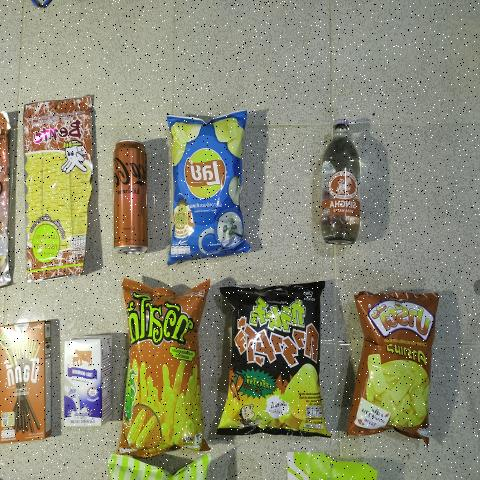bento_red: (26, 96, 94, 281)
coke_red: (110, 139, 147, 258)
karamujo: (222, 279, 322, 439)
lay_blue: (176, 119, 242, 246)
party_red: (352, 293, 436, 428)
pokki: (0, 321, 51, 436)
singha_soda: (316, 115, 367, 240)
thai_denmark: (60, 337, 112, 424)
twisco: (121, 292, 200, 443)
